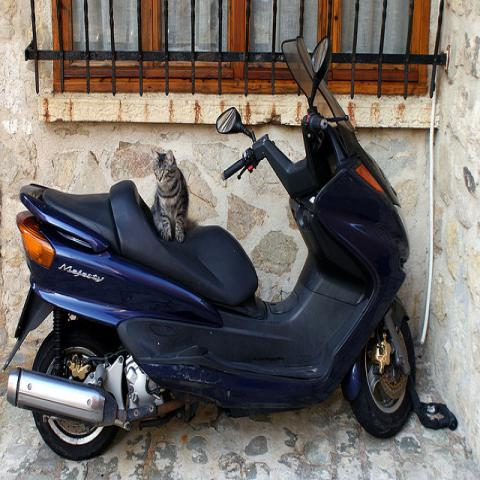motorcycle: (0, 27, 420, 465)
